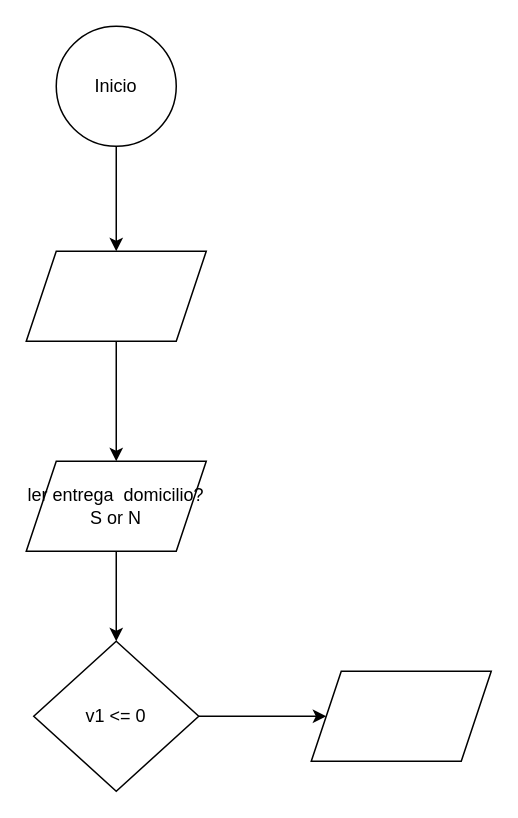
Image size: 518x818. Some labels were removed from this diagram. The centre of each missing label's shape, as x and y in pixels:
"Ler v1," goes at [115,295].
"Mostrar dados invalidos" goes at [400,715].
